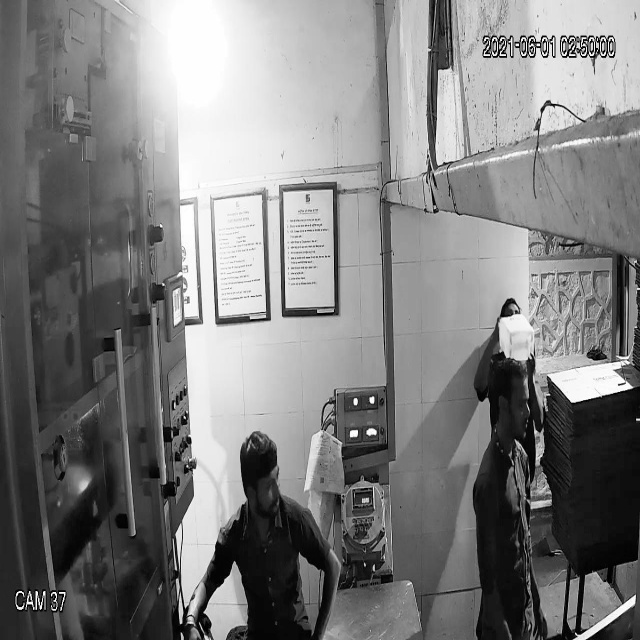Sin_gafas: (236, 465, 285, 503), (489, 386, 533, 418)
